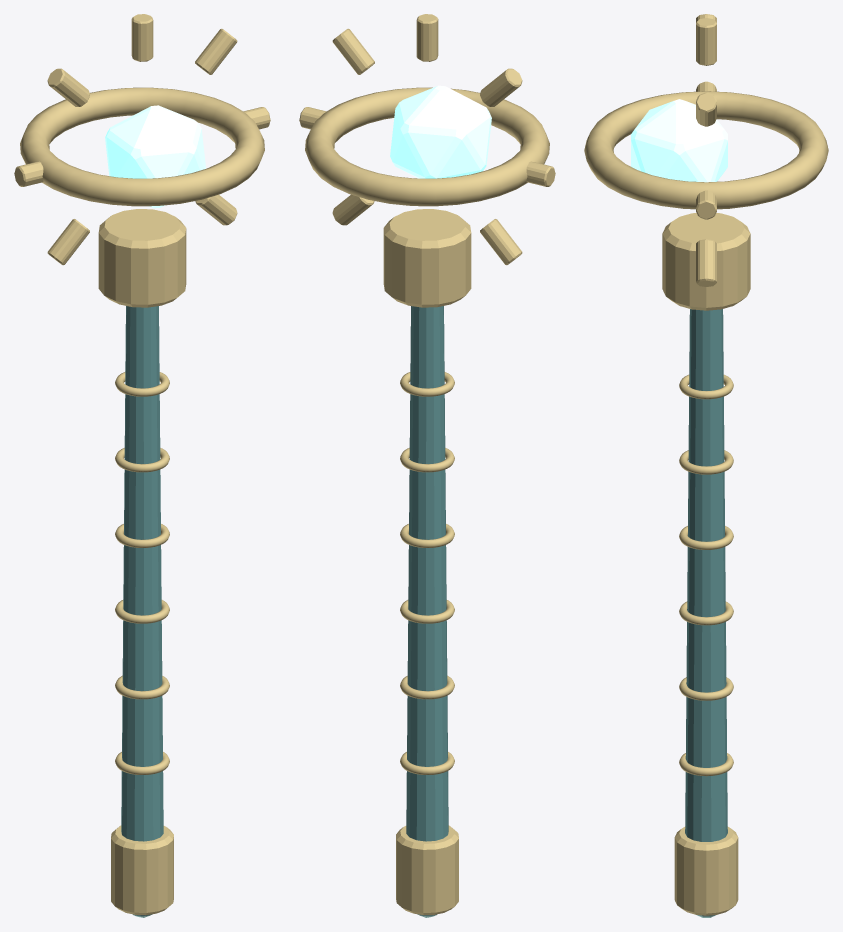
File: mage-staff-05-clockwork-star.glb
3 renders of one model, left to right at view 1: azimuth 30°, elevation 25°; view 2: azimuth 150°, elevation 25°; view 3: azimuth 270°, elevation 25°, orthographic.
Visible parts, largest first — view 1: mage-staff-05-clockwork-star_WoodenShaft, mage-staff-05-clockwork-star_ClockworkGear, mage-staff-05-clockwork-star_CrownCollar, mage-staff-05-clockwork-star_CrownStar, mage-staff-05-clockwork-star_LowerFerrule, mage-staff-05-clockwork-star_GearTooth_1, mage-staff-05-clockwork-star_GearTooth_2, mage-staff-05-clockwork-star_GearTooth_6, mage-staff-05-clockwork-star_GearTooth_8, mage-staff-05-clockwork-star_GearTooth_4, mage-staff-05-clockwork-star_ShaftBand_6, mage-staff-05-clockwork-star_ShaftBand_5 (+5 smaller); view 2: mage-staff-05-clockwork-star_WoodenShaft, mage-staff-05-clockwork-star_ClockworkGear, mage-staff-05-clockwork-star_CrownCollar, mage-staff-05-clockwork-star_CrownStar, mage-staff-05-clockwork-star_LowerFerrule, mage-staff-05-clockwork-star_GearTooth_1, mage-staff-05-clockwork-star_GearTooth_2, mage-staff-05-clockwork-star_GearTooth_6, mage-staff-05-clockwork-star_GearTooth_8, mage-staff-05-clockwork-star_GearTooth_4, mage-staff-05-clockwork-star_ShaftBand_6, mage-staff-05-clockwork-star_ShaftBand_5 (+5 smaller); view 3: mage-staff-05-clockwork-star_WoodenShaft, mage-staff-05-clockwork-star_ClockworkGear, mage-staff-05-clockwork-star_CrownCollar, mage-staff-05-clockwork-star_CrownStar, mage-staff-05-clockwork-star_LowerFerrule, mage-staff-05-clockwork-star_GearTooth_4, mage-staff-05-clockwork-star_GearTooth_1, mage-staff-05-clockwork-star_ShaftBand_6, mage-staff-05-clockwork-star_ShaftBand_5, mage-staff-05-clockwork-star_GearTooth_2, mage-staff-05-clockwork-star_ShaftBand_3, mage-staff-05-clockwork-star_ShaftBand_4 (+3 smaller).
Part boxes in pixels (<box>): mage-staff-05-clockwork-star_WoodenShaft: <box>121,306,163,841</box>; mage-staff-05-clockwork-star_ClockworkGear: <box>20,87,264,206</box>; mage-staff-05-clockwork-star_CrownCollar: <box>98,209,186,307</box>; mage-staff-05-clockwork-star_CrownStar: <box>105,105,205,208</box>; mage-staff-05-clockwork-star_LowerFerrule: <box>111,825,173,915</box>; mage-staff-05-clockwork-star_GearTooth_1: <box>131,14,153,61</box>; mage-staff-05-clockwork-star_GearTooth_2: <box>195,28,237,74</box>; mage-staff-05-clockwork-star_GearTooth_6: <box>47,219,89,265</box>; mage-staff-05-clockwork-star_GearTooth_8: <box>47,68,89,106</box>; mage-staff-05-clockwork-star_GearTooth_4: <box>195,194,237,225</box>; mage-staff-05-clockwork-star_ShaftBand_6: <box>115,372,169,396</box>; mage-staff-05-clockwork-star_ShaftBand_5: <box>115,448,169,472</box>; mage-staff-05-clockwork-star_WoodenShaft: <box>406,306,448,841</box>; mage-staff-05-clockwork-star_ClockworkGear: <box>305,87,549,206</box>; mage-staff-05-clockwork-star_CrownCollar: <box>383,209,471,307</box>; mage-staff-05-clockwork-star_CrownStar: <box>390,85,491,178</box>; mage-staff-05-clockwork-star_LowerFerrule: <box>396,825,458,915</box>; mage-staff-05-clockwork-star_GearTooth_1: <box>416,14,438,61</box>; mage-staff-05-clockwork-star_GearTooth_2: <box>332,28,374,74</box>; mage-staff-05-clockwork-star_GearTooth_6: <box>480,219,522,265</box>; mage-staff-05-clockwork-star_GearTooth_8: <box>480,68,522,106</box>; mage-staff-05-clockwork-star_GearTooth_4: <box>332,194,374,225</box>; mage-staff-05-clockwork-star_ShaftBand_6: <box>400,372,454,396</box>; mage-staff-05-clockwork-star_ShaftBand_5: <box>400,448,454,472</box>; mage-staff-05-clockwork-star_WoodenShaft: <box>685,309,727,841</box>; mage-staff-05-clockwork-star_ClockworkGear: <box>584,91,828,209</box>; mage-staff-05-clockwork-star_CrownCollar: <box>662,213,750,310</box>; mage-staff-05-clockwork-star_CrownStar: <box>631,99,727,182</box>; mage-staff-05-clockwork-star_LowerFerrule: <box>674,826,738,915</box>; mage-staff-05-clockwork-star_GearTooth_4: <box>696,239,716,286</box>; mage-staff-05-clockwork-star_GearTooth_1: <box>696,18,716,65</box>; mage-staff-05-clockwork-star_ShaftBand_6: <box>679,374,733,399</box>; mage-staff-05-clockwork-star_ShaftBand_5: <box>679,450,733,474</box>; mage-staff-05-clockwork-star_GearTooth_2: <box>696,92,716,126</box>; mage-staff-05-clockwork-star_ShaftBand_3: <box>679,601,733,625</box>; mage-staff-05-clockwork-star_ShaftBand_4: <box>679,526,733,549</box>.
Bounding box in the file's own units: 0.58 × 2.02 × 0.5.
